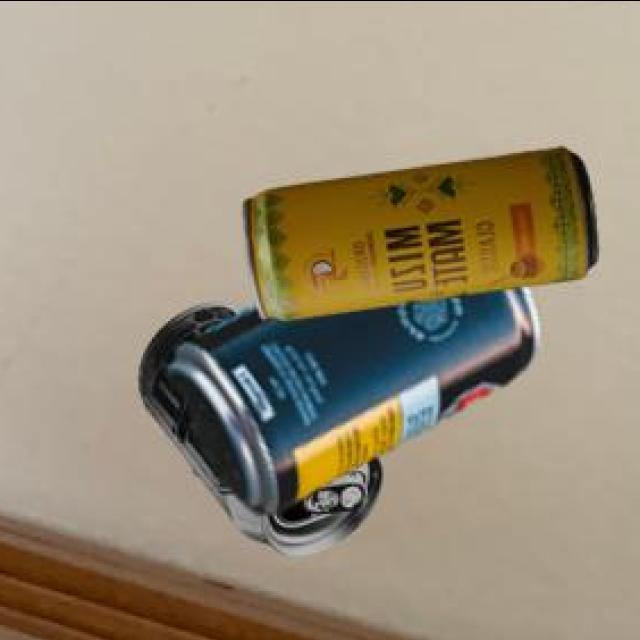logam: (171, 287, 544, 516), (142, 305, 387, 557), (246, 151, 600, 323)
